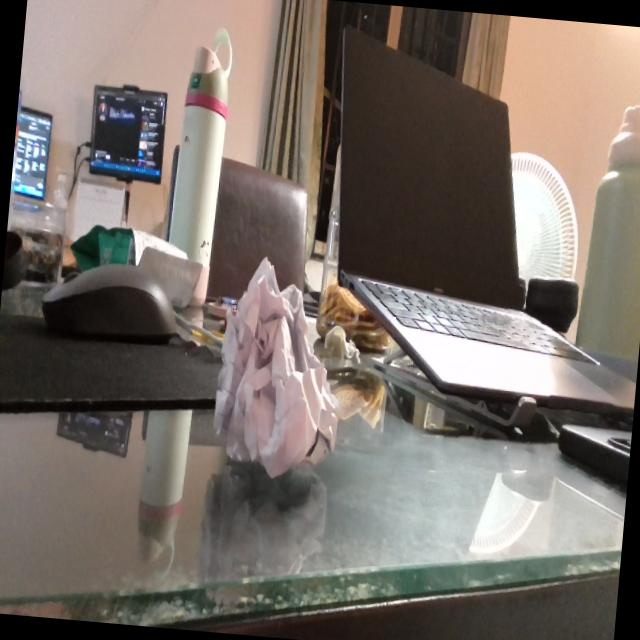crumpled_paper: (208, 251, 352, 486)
